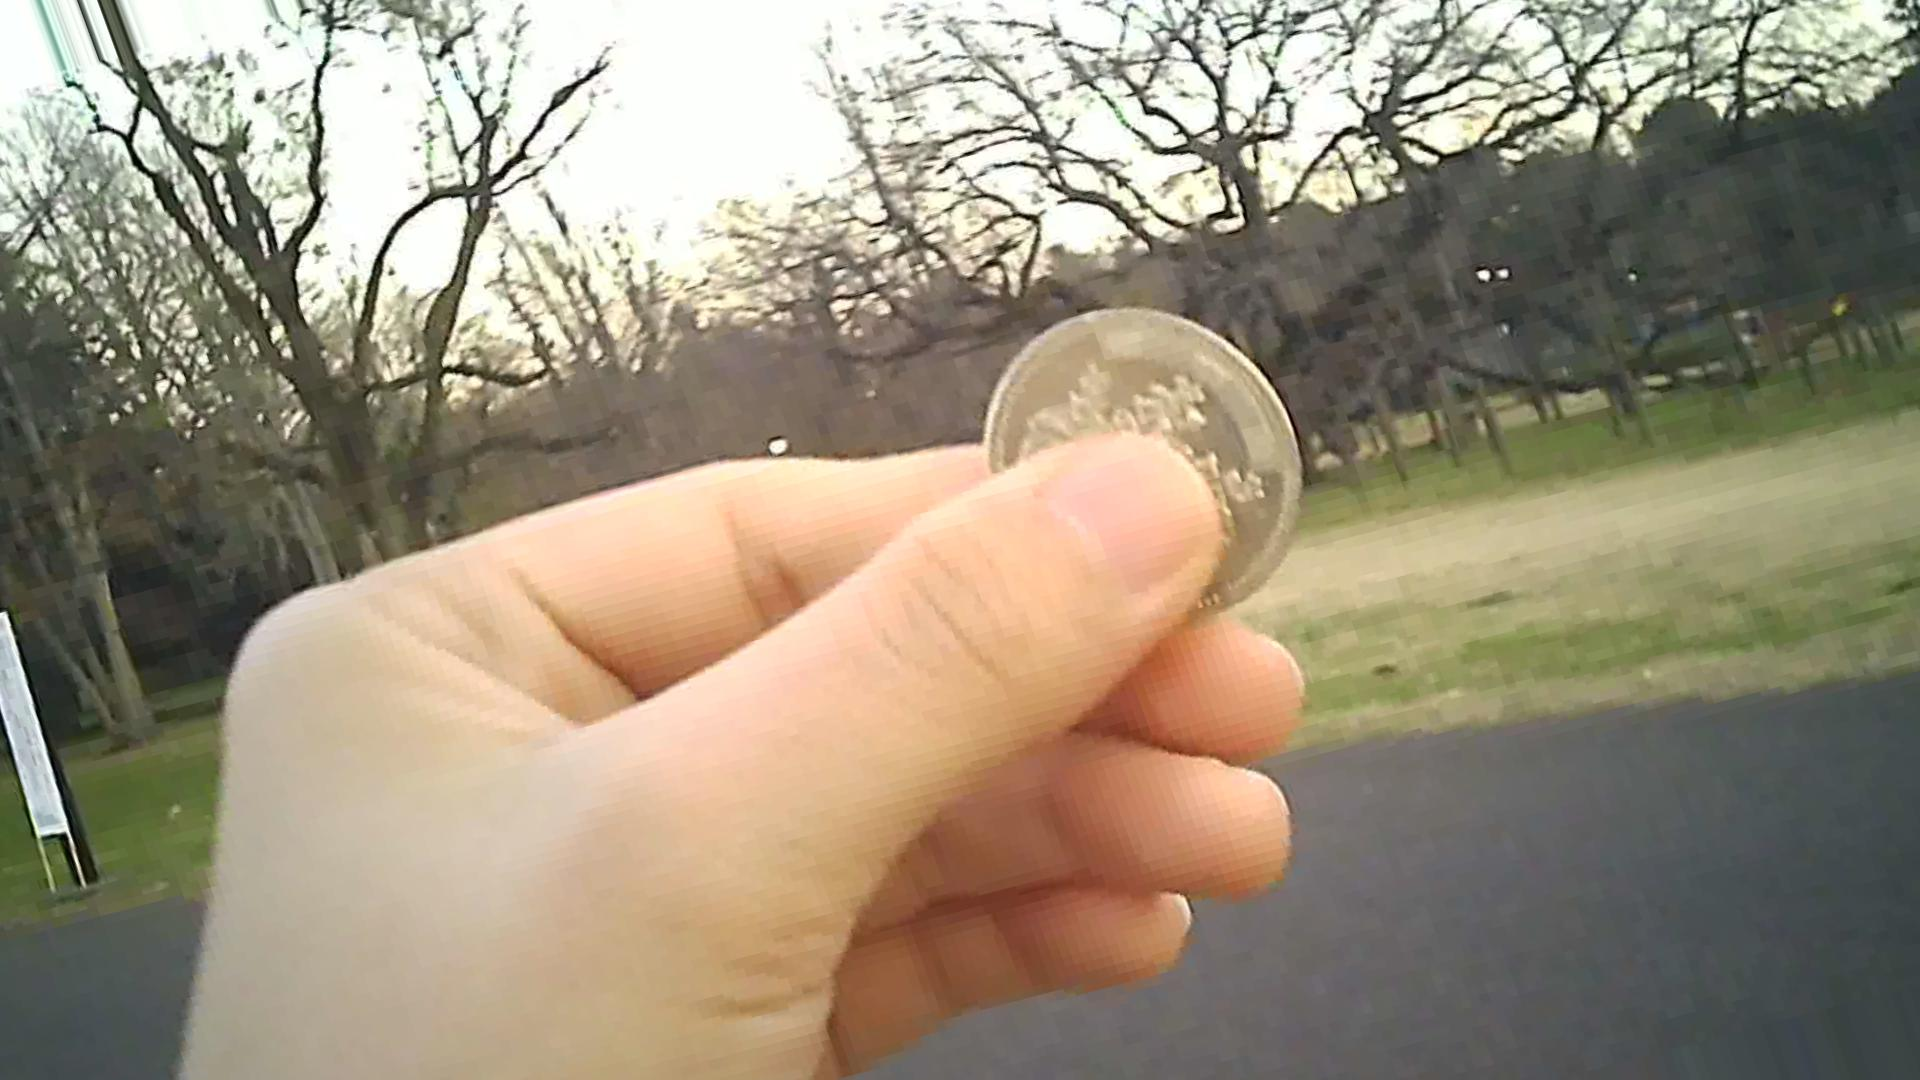500 Yen: (980, 297, 1298, 632)
